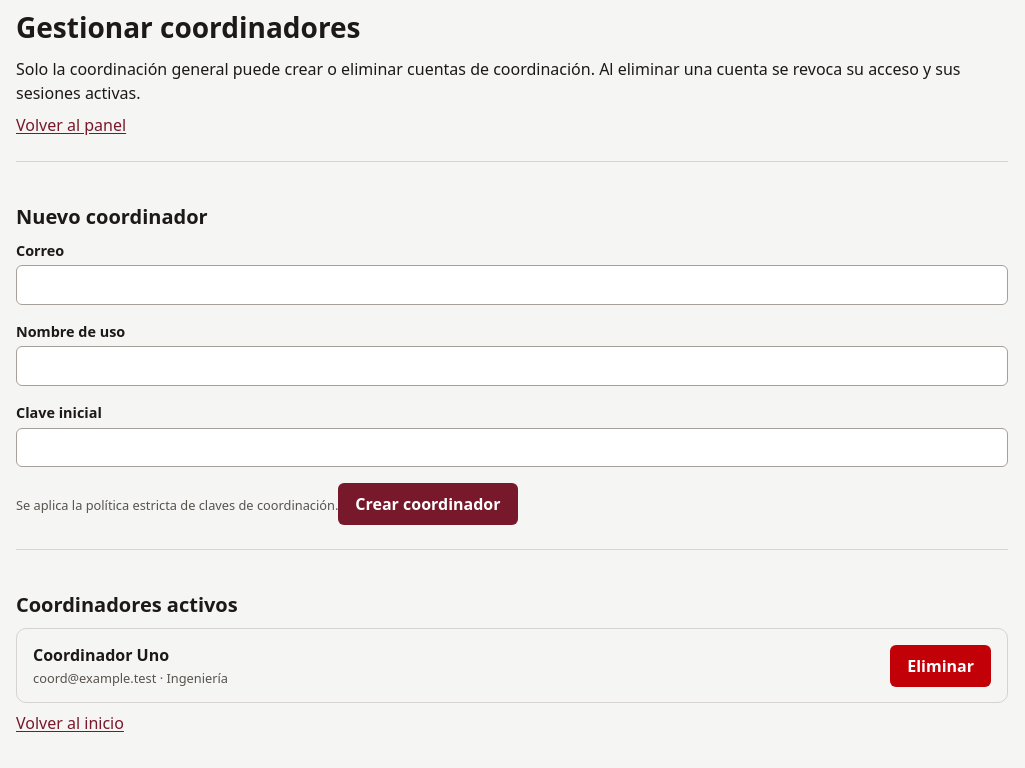
Test: Gestionar coordinadores › elimina un coordinador confirmado
This screenshot has width=1025, height=768.
expect the text "Coordinador Uno" is shown: met, box [33,644,169,666]
Click the button "Eliminar" at (941, 666), box [890,644,991,686]
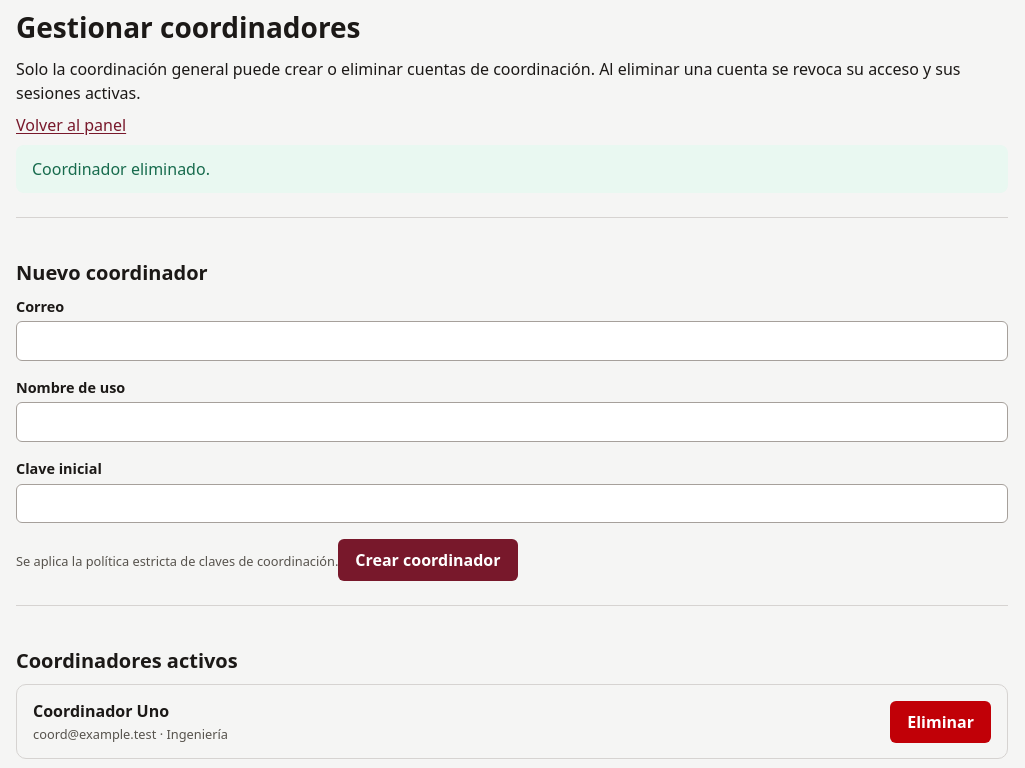
expect the text "Coordinador eliminado." is shown: met, box [16,145,1008,193]
